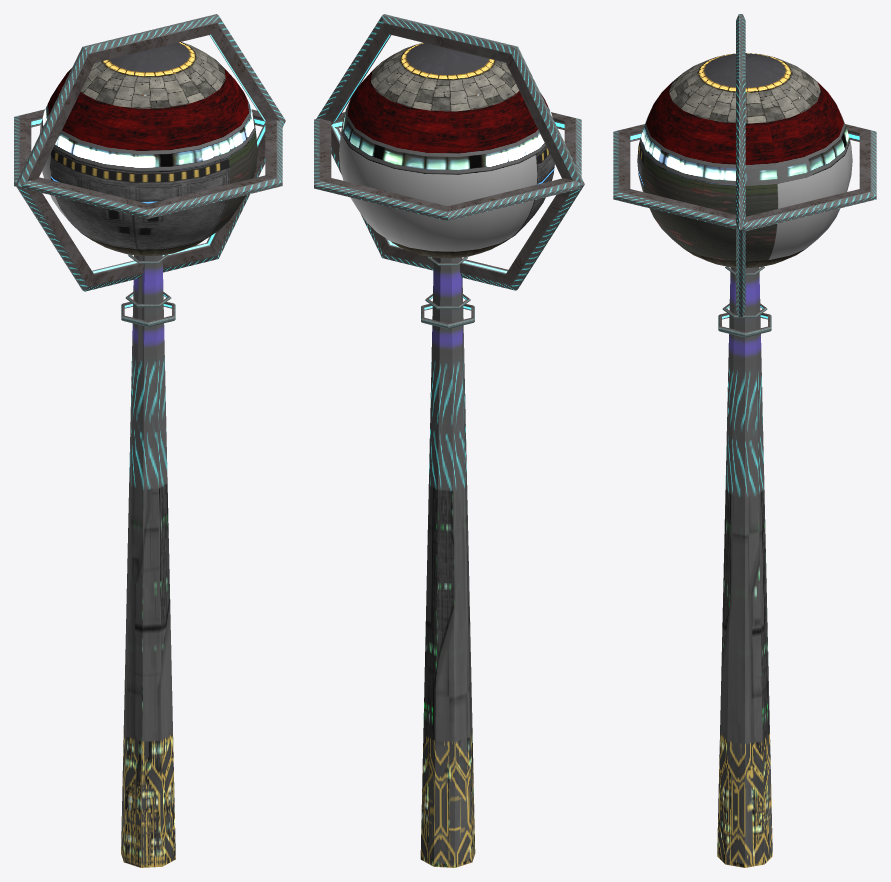
Rendered from vr_headset.glb.
The picture shows the model from 3 angles, left to right: view 1: azimuth 30°, elevation 25°; view 2: azimuth 150°, elevation 25°; view 3: azimuth 270°, elevation 25°; orthographic projection. The views are drawn at different scales.
Parts seen in each view (by area): view 1: Energy_Ball_Projector; view 2: Energy_Ball_Projector; view 3: Energy_Ball_Projector.
Part boxes in pixels (left/top/right/bottom): Energy_Ball_Projector: left=14, top=14, right=285, bottom=867; Energy_Ball_Projector: left=314, top=14, right=584, bottom=867; Energy_Ball_Projector: left=613, top=14, right=876, bottom=867.
Bounding box in the file's own units: 2.66 × 7.81 × 2.3.
3 materials, 3 textured.
